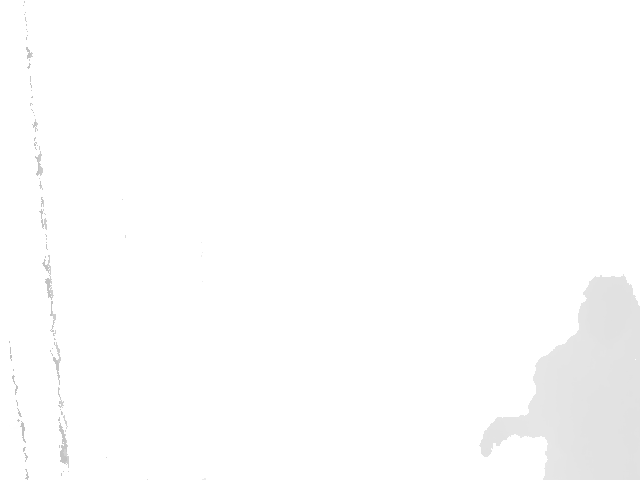head: (578, 276, 639, 344)
person: (480, 275, 640, 480)
